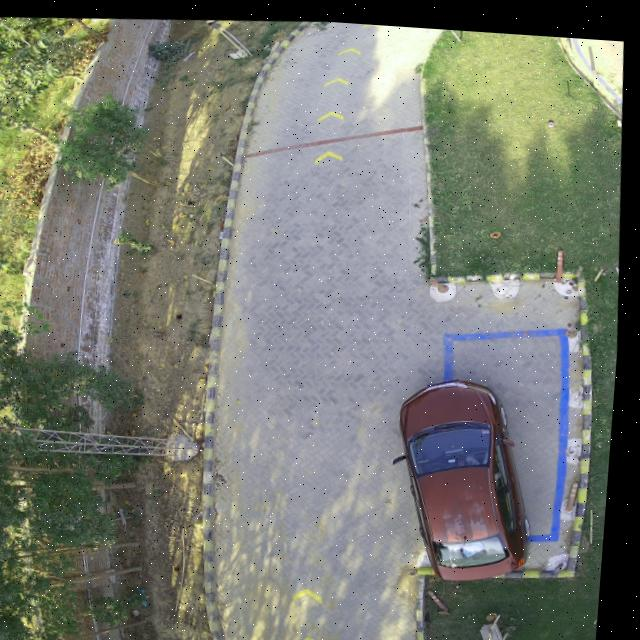car: (404, 371, 538, 574)
